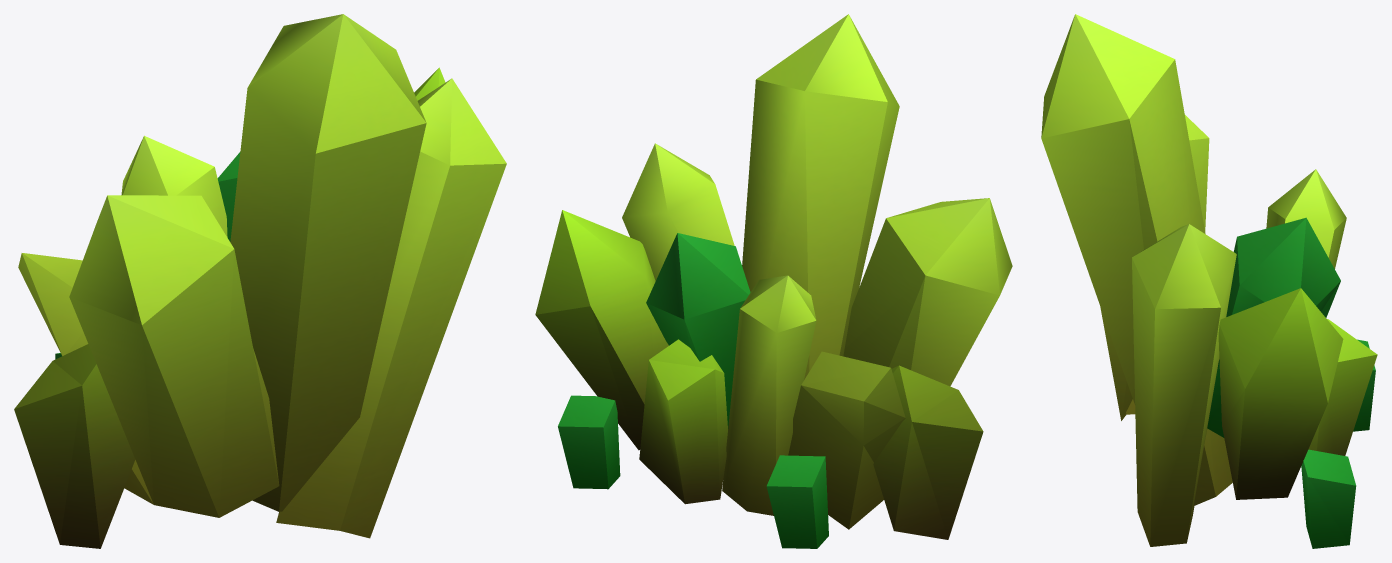
File: ZLP_Crystalk_C_9.FBX
3 renders of one model, left to right at view 1: azimuth 30°, elevation 25°; view 2: azimuth 150°, elevation 25°; view 3: azimuth 270°, elevation 25°, orthographic. The views are drawn at different scales.
Visible parts, largest first — view 1: ZLP_Crystalk_C_9; view 2: ZLP_Crystalk_C_9; view 3: ZLP_Crystalk_C_9.
Boxes of the visible parts, x1,y1,x2,y2 form: ZLP_Crystalk_C_9: (14,14,506,548); ZLP_Crystalk_C_9: (535,14,1012,548); ZLP_Crystalk_C_9: (1041,14,1377,548).
Bounding box in the file's own units: 152 × 169 × 103.
